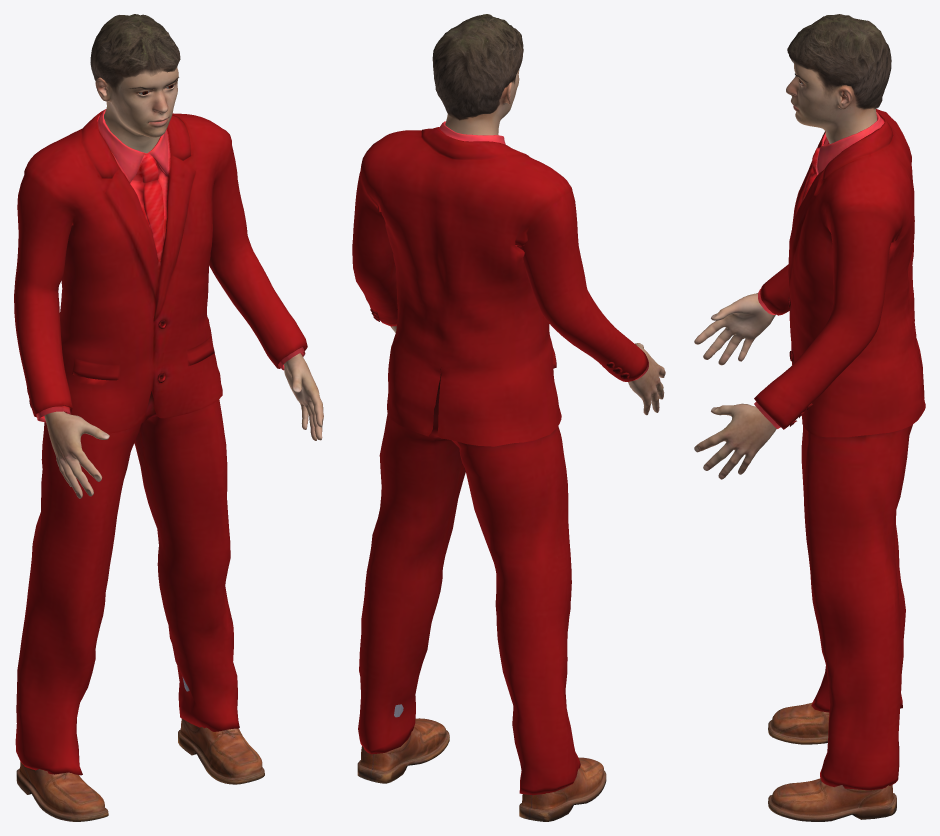
The model's file is crisp.glb.
The picture shows the model from 3 angles, left to right: view 1: azimuth 30°, elevation 25°; view 2: azimuth 150°, elevation 25°; view 3: azimuth 270°, elevation 25°; orthographic projection.
Visible parts, largest first — view 1: Human.male_elegantsuit01, Human, Human.shoes01, Human.short02; view 2: Human.male_elegantsuit01, Human.short02, Human.shoes01, Human; view 3: Human.male_elegantsuit01, Human, Human.short02, Human.shoes01.
Boxes of the visible parts, box(x1,y1,x2,y2) form: Human.male_elegantsuit01: box(14, 109, 307, 775); Human: box(44, 67, 323, 498); Human.shoes01: box(16, 677, 264, 821); Human.short02: box(90, 14, 180, 93); Human.male_elegantsuit01: box(352, 121, 648, 795); Human.short02: box(432, 14, 523, 120); Human.shoes01: box(357, 704, 606, 821); Human: box(391, 69, 665, 415); Human.male_elegantsuit01: box(754, 109, 925, 790); Human: box(694, 61, 876, 479); Human.short02: box(787, 14, 891, 109); Human.shoes01: box(768, 702, 896, 821).
Size of the model in its own units: 0.6624 by 1.79 by 0.4978.
6 materials, 6 textured.
